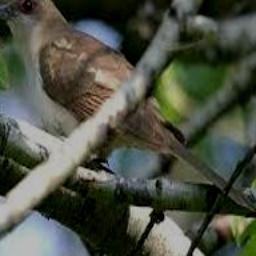Cuckoo: (0, 0, 256, 219)
